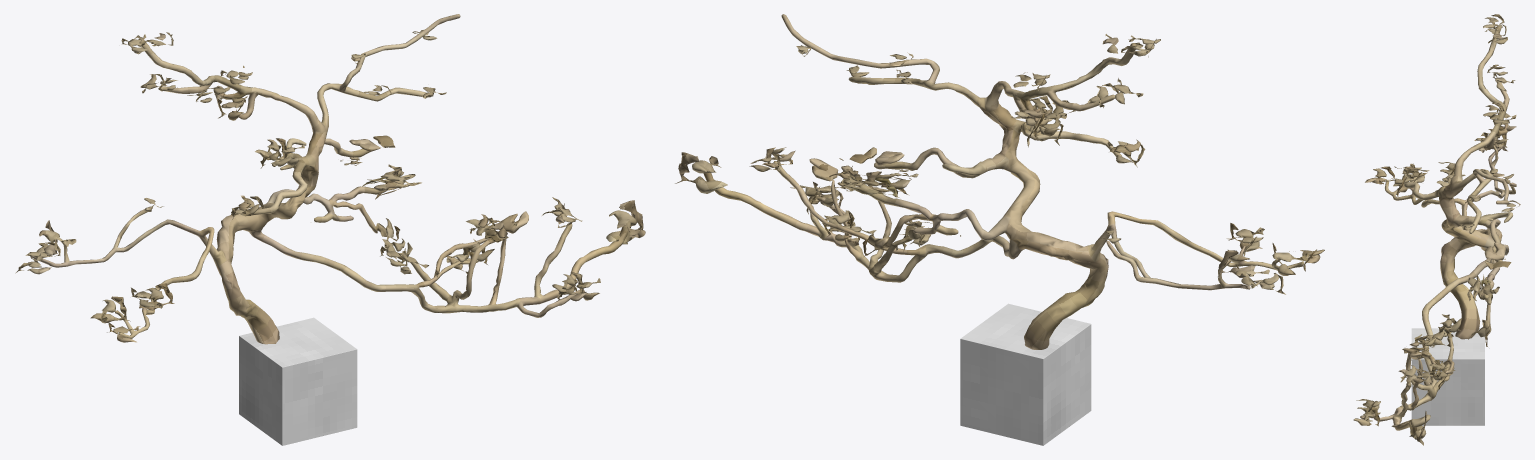
Rendered from morph-footer.glb.
3 views of the same model, side by side, from view 1: azimuth 30°, elevation 25°; view 2: azimuth 150°, elevation 25°; view 3: azimuth 270°, elevation 25° (orthographic). The views are drawn at different scales.
Parts seen in each view (by area): view 1: defaultMaterial (×3); view 2: defaultMaterial (×3); view 3: defaultMaterial (×3).
Part boxes in pixels (x1,y1,x2,y2): defaultMaterial (×3): (15,14,645,445); defaultMaterial (×3): (675,14,1324,445); defaultMaterial (×3): (1353,14,1520,445).
Bounding box in the file's own units: 2 × 1.28 × 0.5797.
Materials: 3 (3 with a texture image).
